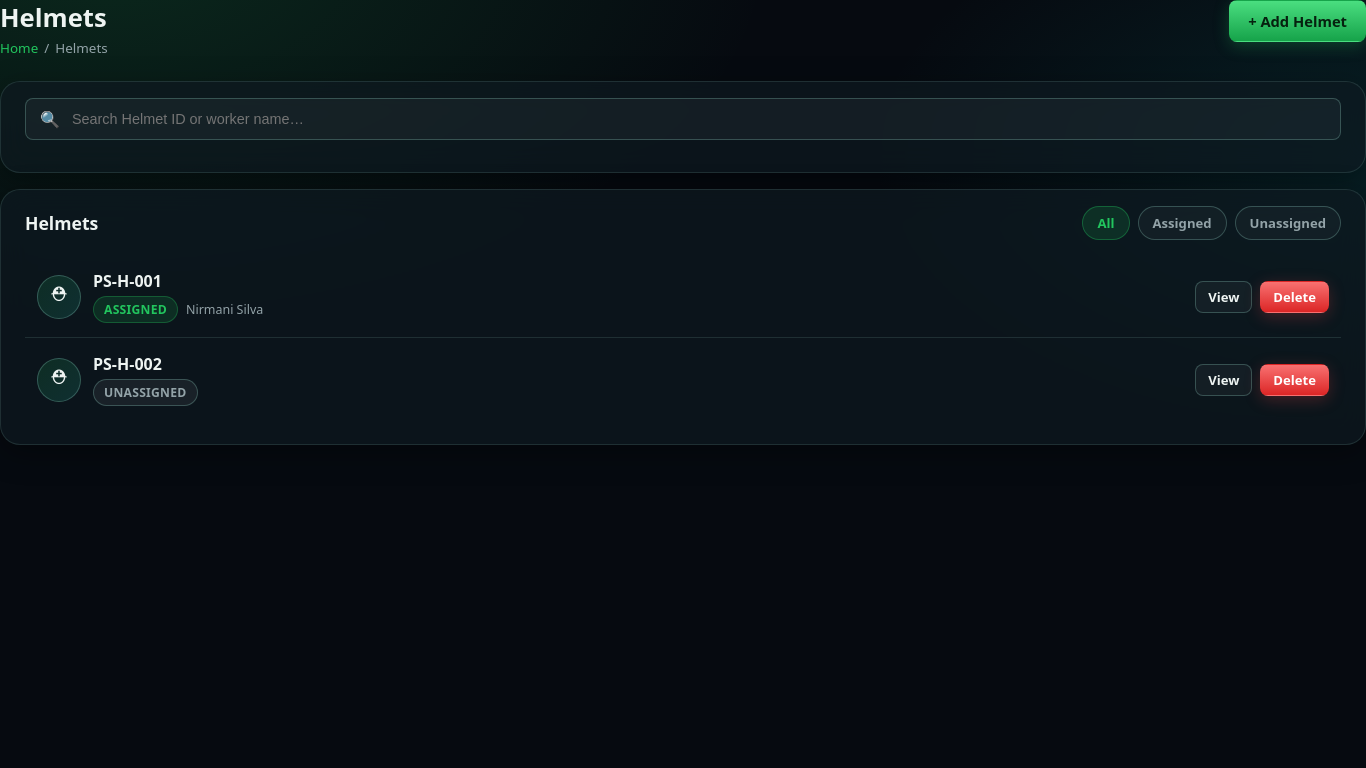
HelmetListPage › Delete on an assigned helmet shows the blocked message, not a delete confirmation
The image size is (1366, 768).
expect the text "PS-H-001" is shown: met, box [93,270,162,292]
Click the button "Delete" in the row of "Nirmani Silva".
click(1295, 296)  # box [1260,280,1329,312]
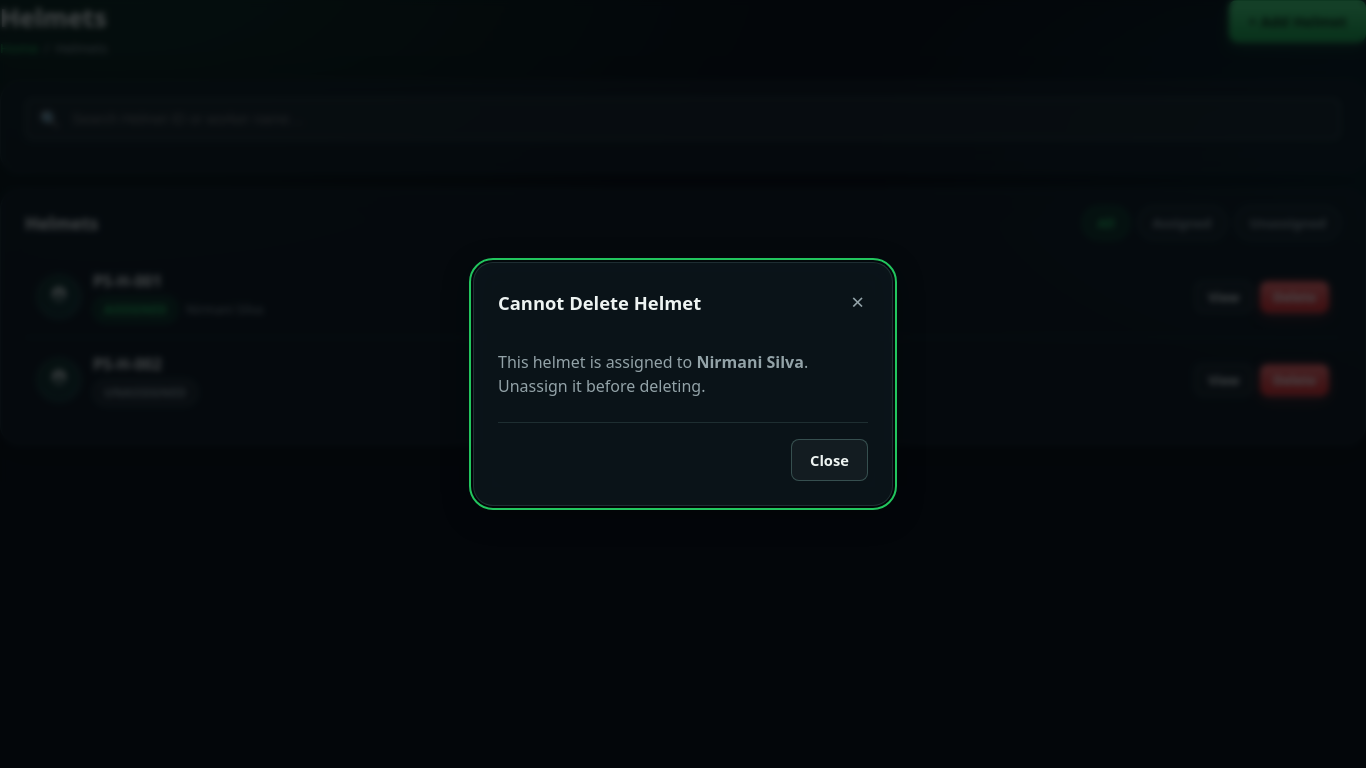
expect the heading "Cannot Delete Helmet" is shown: met, box [498,290,701,315]
